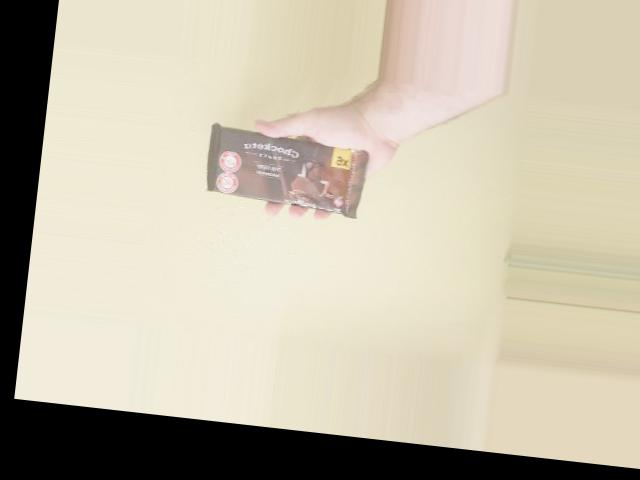chocolate: (203, 119, 371, 219)
